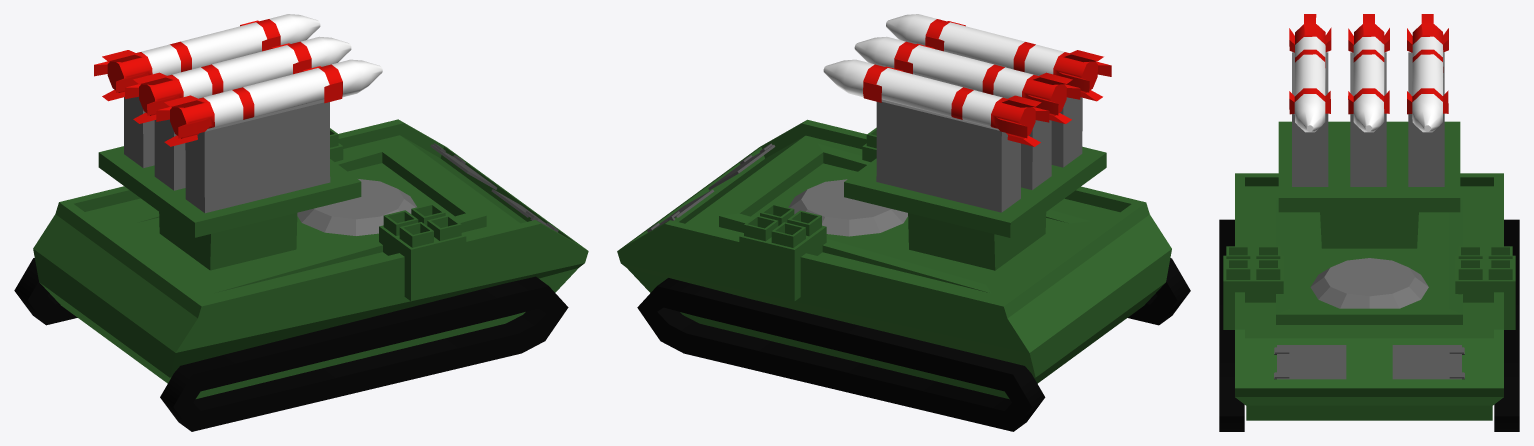
File: Mobile launcher_w.fbx
The picture shows the model from 3 angles, left to right: view 1: azimuth 30°, elevation 25°; view 2: azimuth 150°, elevation 25°; view 3: azimuth 270°, elevation 25°; orthographic projection. The views are drawn at different scales.
Parts seen in each view (by area): view 1: Base, stand.001, Rockets, Rockets.001, Rockets.002, stand, hatch; view 2: Base, stand.001, Rockets.002, Rockets.001, Rockets, stand, hatch; view 3: Base, stand.001, hatch, Rockets.001, Rockets.002, Rockets, stand.
Part boxes in pixels (x1,y1,x2,y2): Base: [14, 119, 588, 431]; stand.001: [98, 96, 361, 237]; Rockets: [156, 59, 382, 146]; Rockets.001: [125, 36, 351, 123]; Rockets.002: [94, 14, 320, 101]; stand: [159, 212, 297, 270]; hatch: [297, 179, 416, 235]; Base: [617, 119, 1190, 431]; stand.001: [844, 97, 1106, 237]; Rockets.002: [823, 59, 1049, 146]; Rockets.001: [854, 36, 1080, 123]; Rockets: [886, 14, 1111, 101]; stand: [908, 212, 1046, 270]; hatch: [788, 179, 907, 236]; Base: [1219, 173, 1519, 431]; stand.001: [1278, 52, 1460, 212]; hatch: [1310, 258, 1428, 308]; Rockets.001: [1348, 14, 1389, 132]; Rockets.002: [1407, 14, 1448, 132]; Rockets: [1289, 14, 1331, 132]; stand: [1320, 212, 1418, 248].
Size of the model in its own units: 1017 by 662 by 661.
